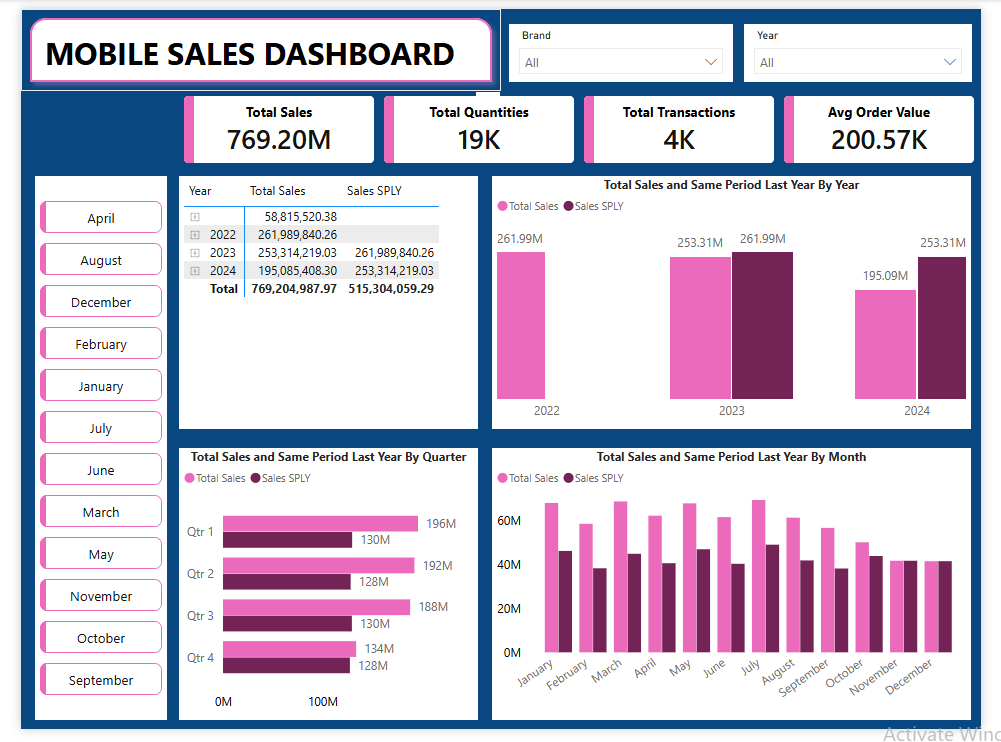

What the dashboard file says about the page in this screenshot:
{"tool":"powerbi","page":{"name":"Page 2","canvas":[960,720],"ordinal":1},"visuals":[{"type":"shape","box":[0,0,480,81.9],"z":0},{"type":"advancedSlicerVisual","fields":{"Values":["Date Table.Month Name"]},"box":[13.6,167.2,131.9,543.7],"z":1000},{"type":"pivotTable","fields":{"Rows":["Date Table.Date.Variation.Date Hierarchy.Year","Date Table.Date.Variation.Date Hierarchy.Quarter"],"Values":["Table.Total Revenue","Table.Sales SPLY"]},"box":[158.1,167.2,299.1,252.5],"z":2000},{"type":"slicer","fields":{"Values":["Sheet1.Brand"]},"box":[488,14.8,224.1,58],"z":7000},{"type":"slicer","fields":{"Values":["Date Table.Date.Variation.Date Hierarchy.Year"]},"box":[723.4,14.8,227.5,58],"z":8000},{"type":"clusteredColumnChart","title":"Total Sales and Same Period Last Year By Year","fields":{"Category":["Date Table.Date.Variation.Date Hierarchy.Year"],"Y":["Table.Total Sales","Table.Sales SPLY"]},"box":[470.9,167.2,478.9,252.5],"z":9000},{"type":"cardVisual","fields":{"Data":["Table.Total Revenue","Table.Total Sold Quantities","Table.Total Transactions","Table.Avg Order Value"]},"box":[158.1,81.9,801.9,77.3],"z":9001},{"type":"clusteredBarChart","title":"Total Sales and Same Period Last Year By Quarter","fields":{"Category":["Date Table.Date.Variation.Date Hierarchy.Quarter"],"Y":["Table.Total Sales","Table.Sales SPLY"]},"box":[158.1,439.1,299.1,271.8],"z":9002},{"type":"clusteredColumnChart","title":"Total Sales and Same Period Last Year By Month","fields":{"Category":["Date Table.Date.Variation.Date Hierarchy.Month"],"Y":["Table.Total Sales","Table.Sales SPLY"]},"box":[471,439,479,272],"z":9003}]}

Visuals, with their boxes in screenshot pixels (x1, y1, x2, y2), scaled from the page's 960x720 canvas onto the 1001x742 screenshot:
shape: (0, 0, 500, 84)
advancedSlicerVisual - Date Table.Month Name: (14, 172, 152, 733)
pivotTable - Date Table.Date.Variation.Date Hierarchy.Year x Date Table.Date.Variation.Date Hierarchy.Quarter: (165, 172, 477, 433)
slicer - Sheet1.Brand: (509, 15, 743, 75)
slicer - Date Table.Date.Variation.Date Hierarchy.Year: (754, 15, 992, 75)
"Total Sales and Same Period Last Year By Year" clusteredColumnChart: (491, 172, 990, 433)
cardVisual - Table.Total Revenue x Table.Total Sold Quantities: (165, 84, 1000, 164)
"Total Sales and Same Period Last Year By Quarter" clusteredBarChart: (165, 453, 477, 733)
"Total Sales and Same Period Last Year By Month" clusteredColumnChart: (491, 452, 991, 733)
